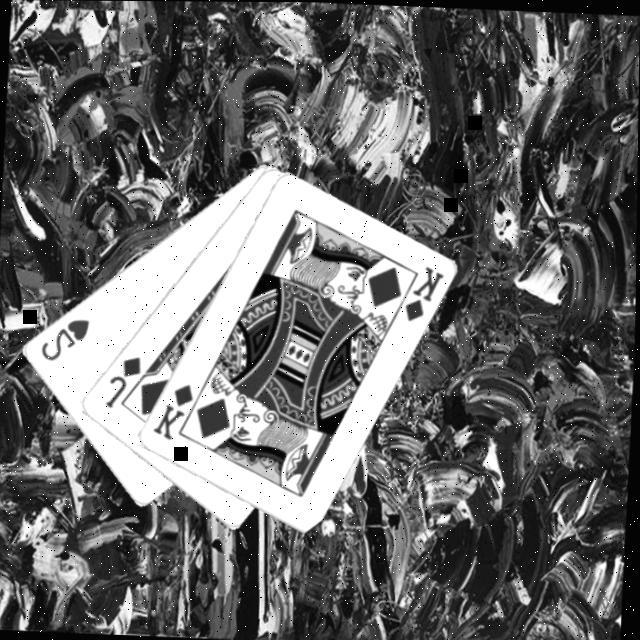2H: (36, 315, 92, 367)
JD: (100, 353, 144, 413)
KD: (148, 381, 196, 444), (399, 264, 446, 326)
